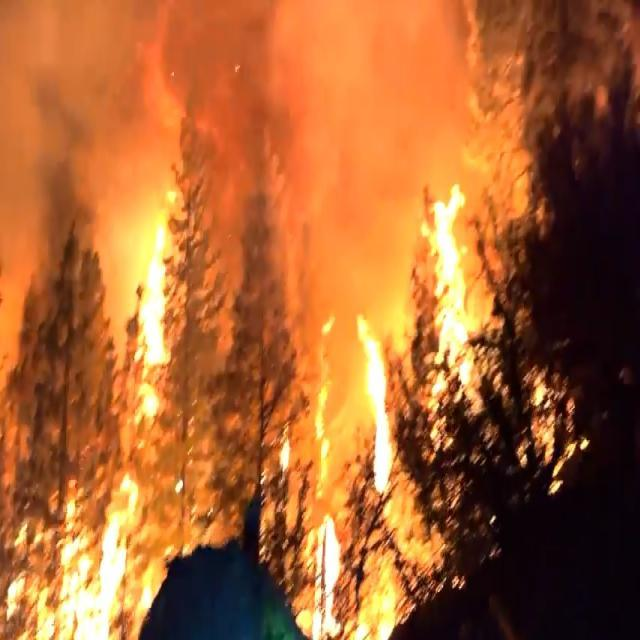Fire: (8, 173, 482, 640)
